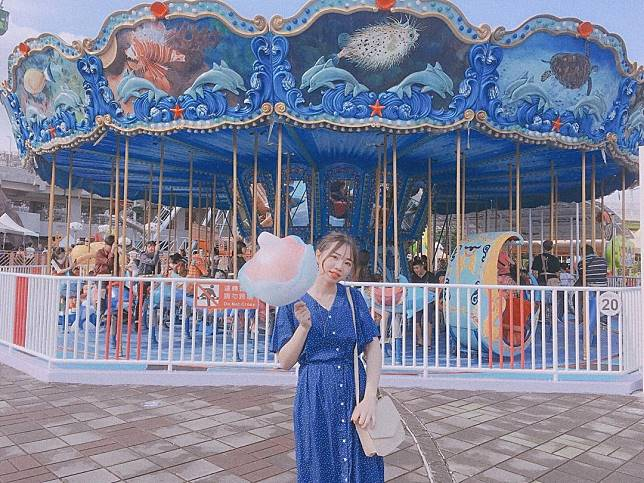people: (278, 234, 383, 483)
